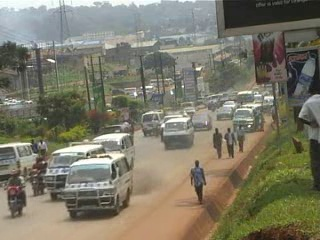Car: (156, 112, 191, 141), (100, 120, 135, 148), (190, 109, 212, 130), (214, 105, 233, 121), (222, 98, 237, 113), (181, 104, 197, 117)
Motorcycle: (2, 180, 26, 217), (27, 165, 46, 197)
